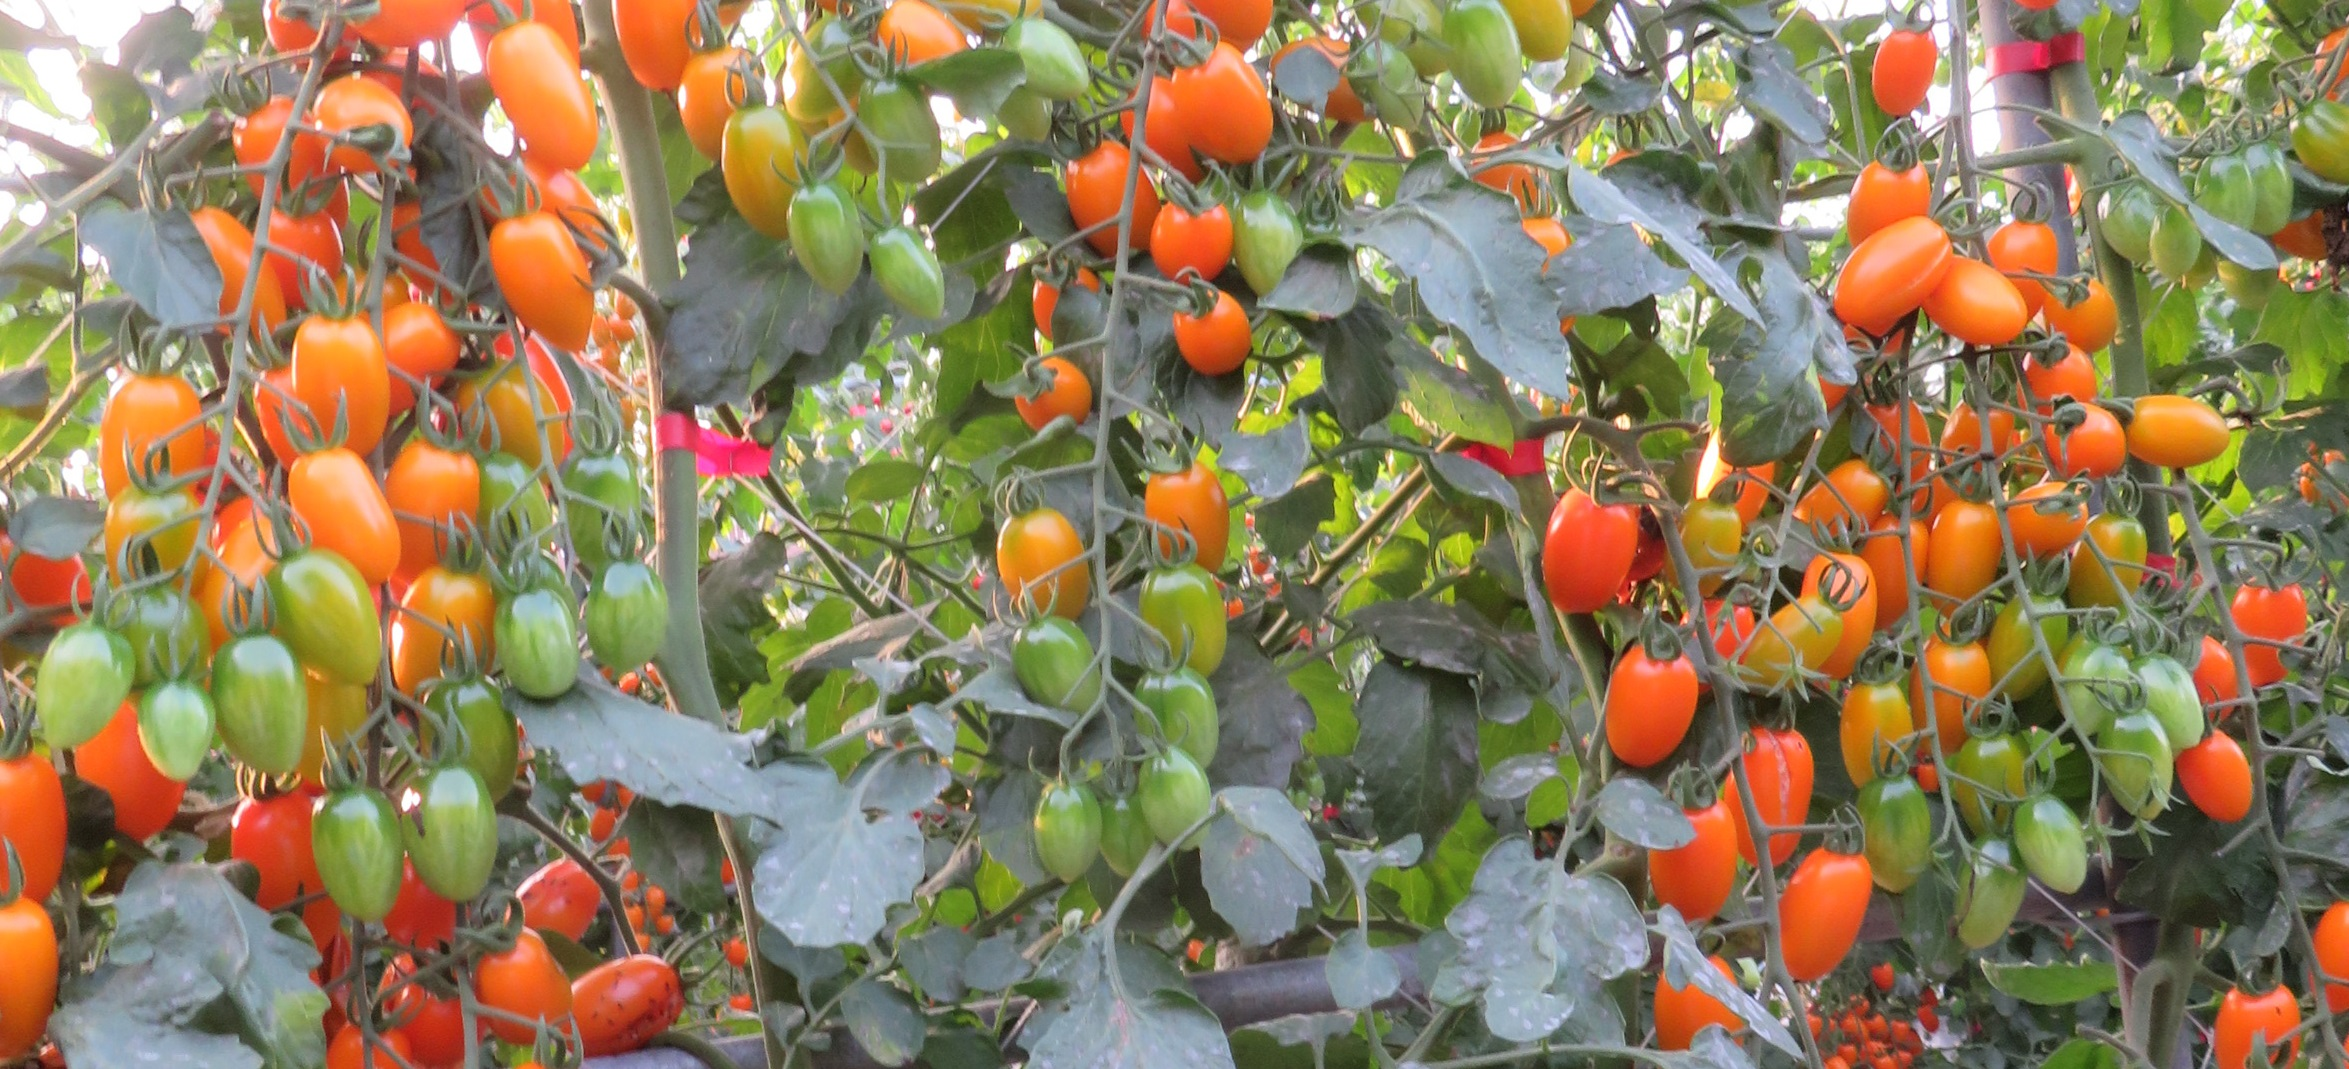green: (262, 554, 382, 687), (205, 639, 316, 779), (300, 791, 407, 922), (24, 630, 127, 756), (1002, 608, 1106, 722), (400, 776, 493, 898), (493, 587, 581, 705), (581, 555, 662, 677), (1431, 7, 1528, 108), (1025, 764, 1100, 894), (724, 115, 798, 240), (2100, 699, 2171, 829), (785, 177, 861, 293), (416, 680, 515, 767), (1121, 749, 1207, 847), (1124, 677, 1231, 756), (472, 454, 556, 555), (560, 449, 643, 549), (1948, 847, 2022, 954), (861, 223, 939, 320), (1145, 576, 1231, 663), (1351, 40, 1431, 135), (130, 695, 213, 785), (858, 79, 930, 177), (2019, 802, 2093, 897), (1001, 25, 1094, 94), (2067, 630, 2136, 723), (1870, 785, 1924, 886), (1236, 208, 1308, 281), (2093, 177, 2147, 262), (2148, 654, 2213, 723), (2148, 214, 2205, 284), (2201, 148, 2246, 228), (2270, 139, 2306, 237), (1684, 511, 1736, 576), (1518, 1, 1568, 61)
orange: (482, 22, 607, 174), (482, 210, 616, 338), (1536, 460, 1636, 621), (277, 439, 390, 570), (1831, 223, 1959, 329), (553, 960, 691, 1054), (1771, 856, 1867, 991), (192, 205, 286, 340), (461, 916, 569, 1030), (1730, 740, 1825, 868), (1600, 645, 1694, 768), (1648, 800, 1736, 925), (219, 91, 321, 199), (285, 325, 390, 428), (1065, 144, 1160, 258), (1167, 45, 1270, 148), (76, 743, 186, 840), (1, 523, 100, 626), (300, 82, 413, 171), (100, 376, 216, 463), (1, 753, 70, 898), (1654, 952, 1747, 1059), (1807, 549, 1882, 681), (1140, 463, 1239, 561), (998, 505, 1085, 615), (392, 567, 485, 671), (2231, 570, 2310, 687), (1, 891, 55, 1062), (261, 208, 351, 305), (509, 859, 607, 943), (2177, 722, 2259, 820), (1931, 271, 2036, 347), (392, 440, 473, 539), (1925, 502, 2000, 608), (2120, 389, 2228, 463), (1148, 199, 1230, 290), (674, 46, 745, 151), (1870, 16, 1940, 121), (2213, 975, 2285, 1069), (616, 1, 688, 94), (2046, 269, 2127, 352), (1172, 287, 1240, 382), (1945, 389, 2016, 479), (2039, 407, 2124, 482), (1994, 490, 2093, 552), (1804, 463, 1885, 537), (1840, 687, 1907, 774), (261, 1, 345, 70), (1014, 362, 1100, 430), (348, 1, 467, 48), (1868, 398, 1936, 481), (2024, 340, 2100, 409), (1989, 213, 2058, 287), (1031, 269, 1103, 335), (1847, 171, 1948, 217), (331, 1017, 418, 1069), (587, 808, 616, 846), (721, 939, 748, 972), (646, 886, 665, 919)
red: (225, 794, 319, 916)
